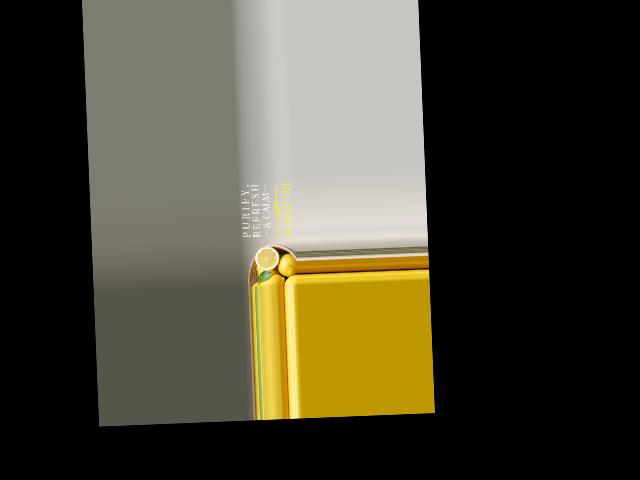lemon: (276, 254, 297, 276)
